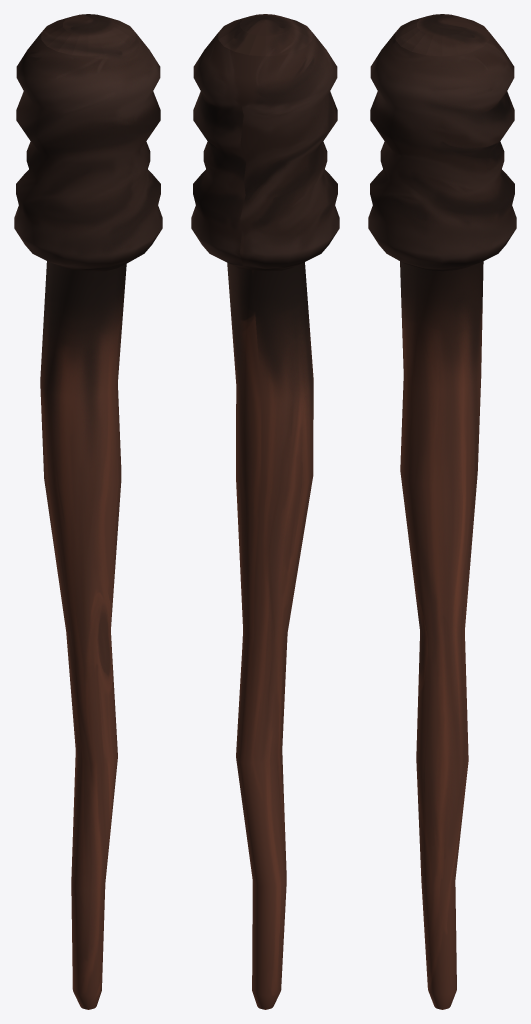
The model's file is Torch.FBX.
3 renders of one model, left to right at view 1: azimuth 30°, elevation 25°; view 2: azimuth 150°, elevation 25°; view 3: azimuth 270°, elevation 25°, orthographic.
Parts seen in each view (by area): view 1: Cylinder001; view 2: Cylinder001; view 3: Cylinder001.
Boxes of the visible parts, <box> form: Cylinder001: <box>14,14,162,1009</box>; Cylinder001: <box>191,14,339,1009</box>; Cylinder001: <box>368,14,516,1009</box>.
Size of the model in its own units: 0.5815 by 4.22 by 0.5726.
1 material, 1 textured.
